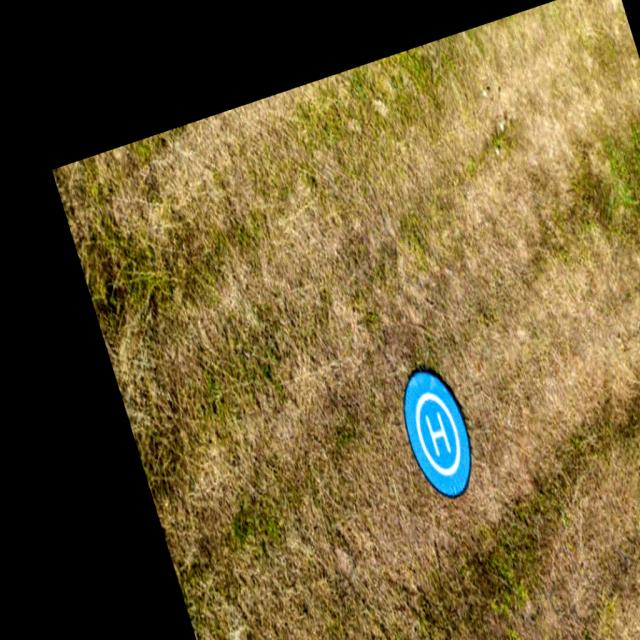helipad: (410, 388, 466, 478)
